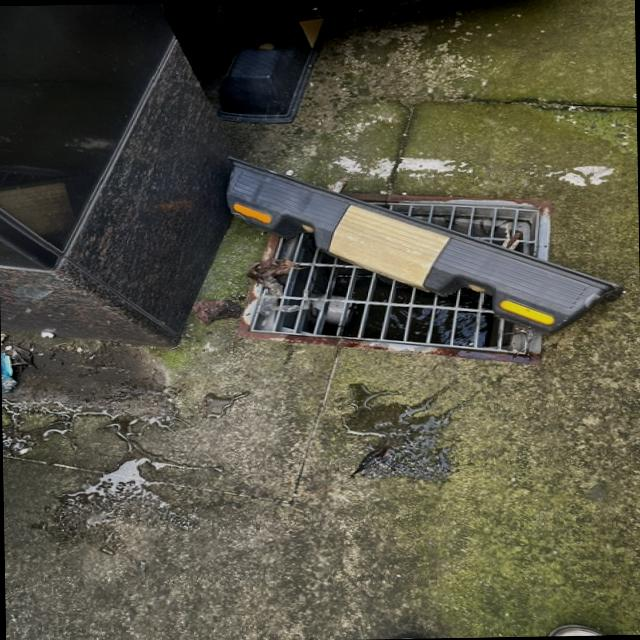drain_area: (250, 233, 526, 353), (370, 201, 540, 254)
drain_full: (249, 197, 540, 355)
